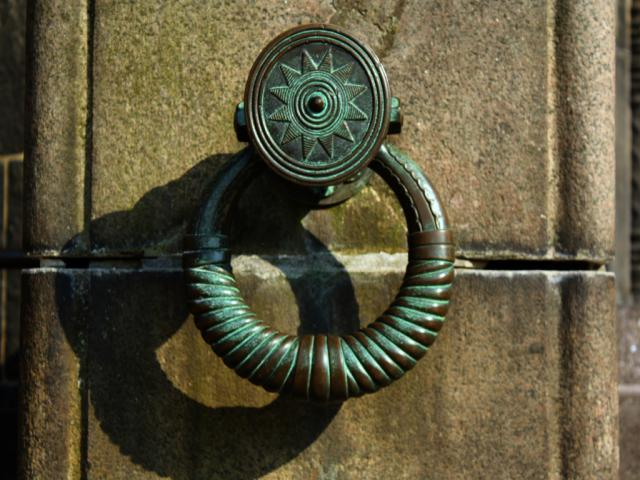Door-handle: (182, 19, 456, 403)
